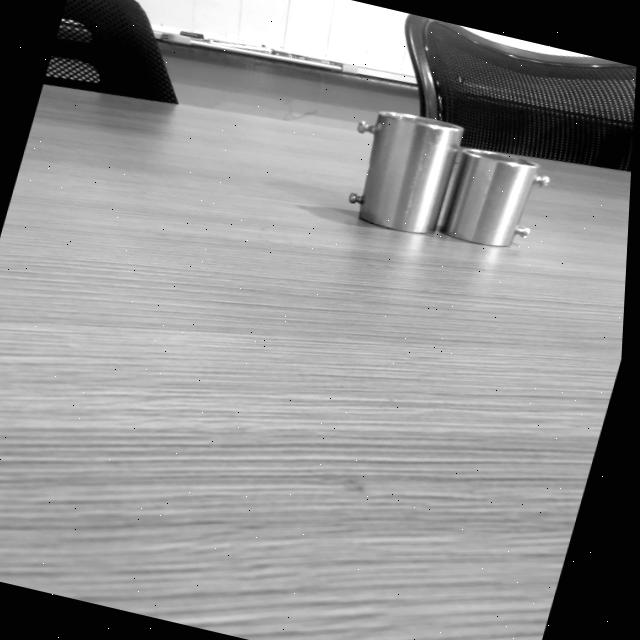Co_Lon: (332, 97, 461, 239)
Co_Nho: (433, 137, 554, 260)
